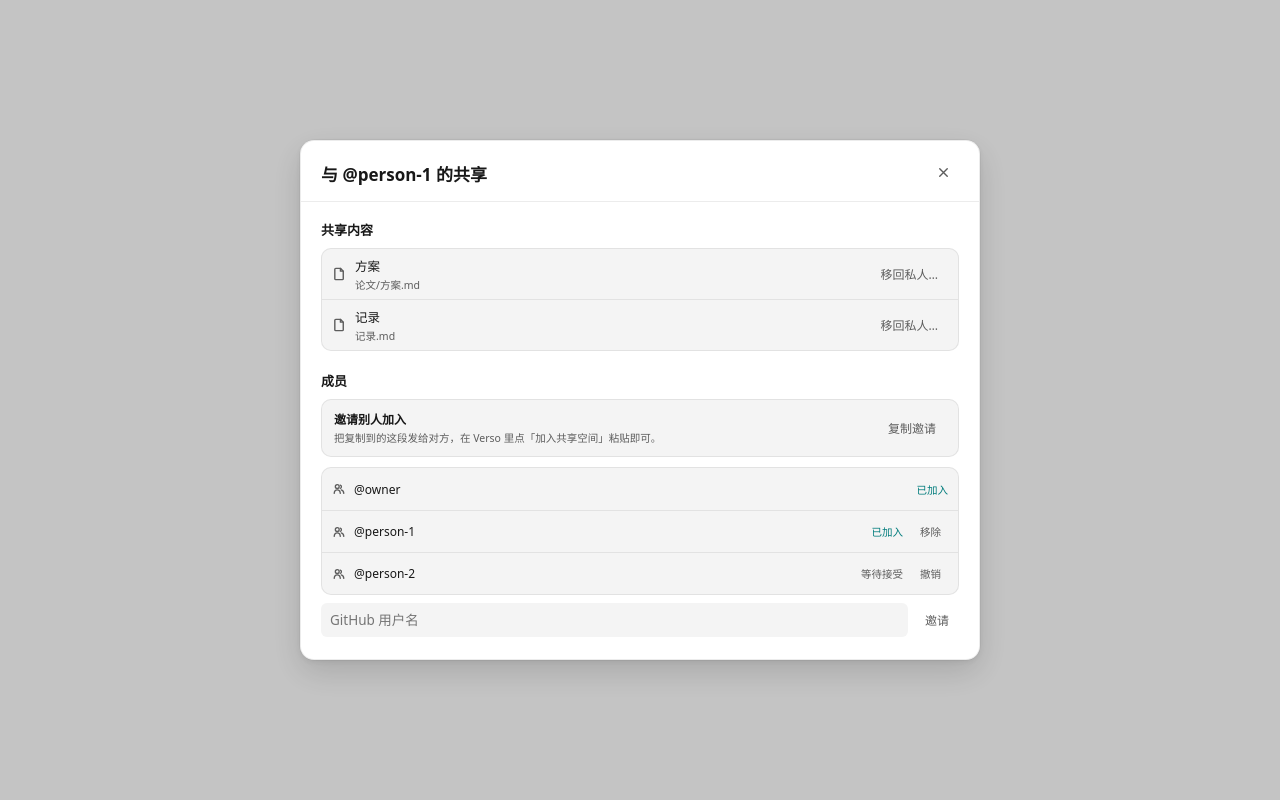
邀请别人加入 › 一键复制出的邀请，加入那头认得回来
The width and height of the screenshot is (1280, 800).
Click the button "复制邀请" at (912, 428), box x1=878 y1=412 x2=946 y2=444
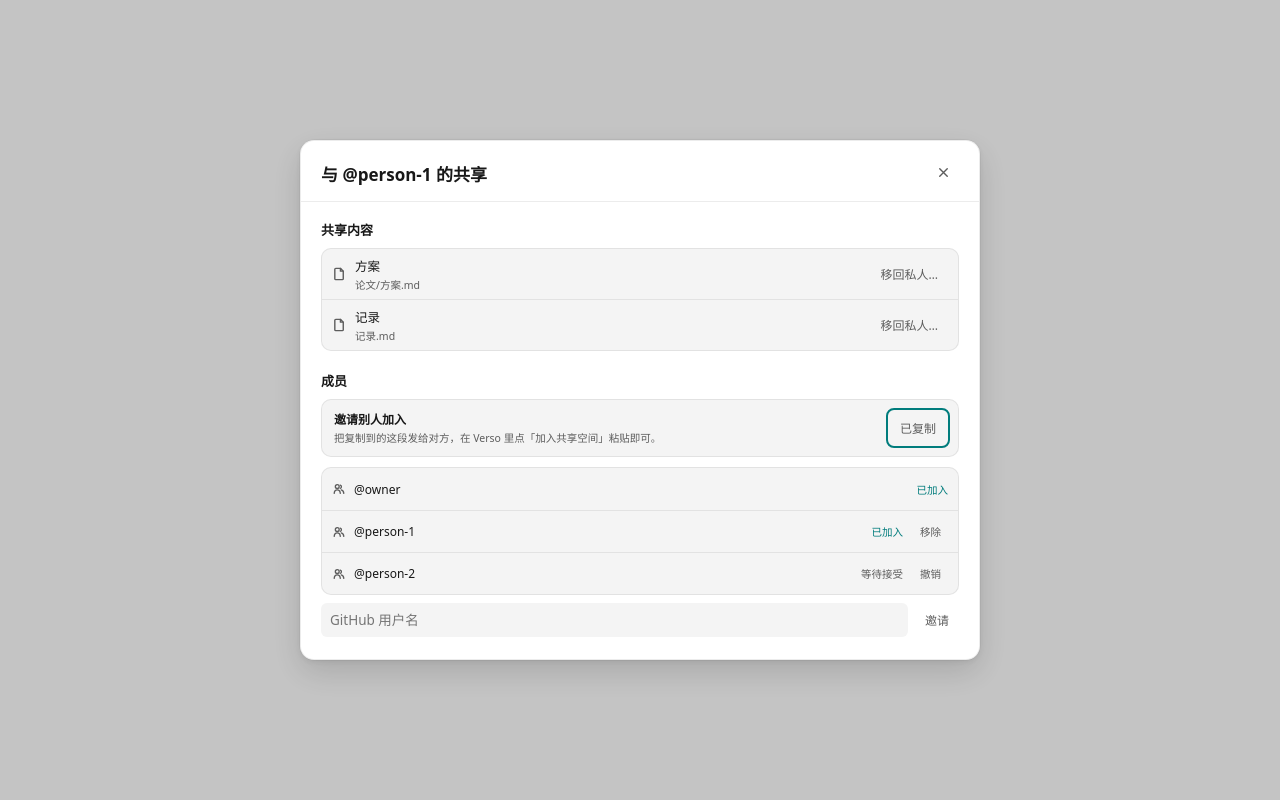
Expected: the text "已复制" is shown, x1=890 y1=412 x2=946 y2=444
